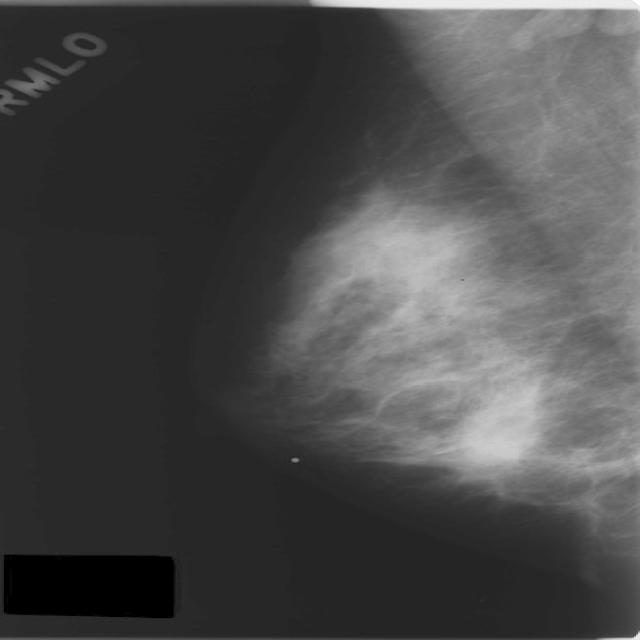tumour: (458, 395, 538, 464)
